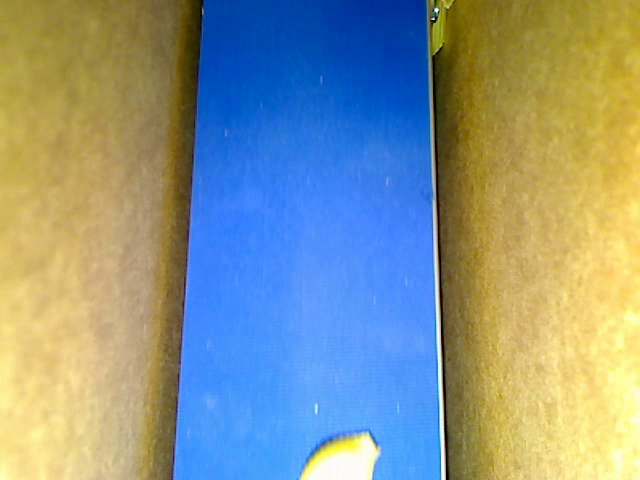penne: (428, 1, 448, 61), (437, 1, 458, 14)
shell: (295, 428, 381, 478)
